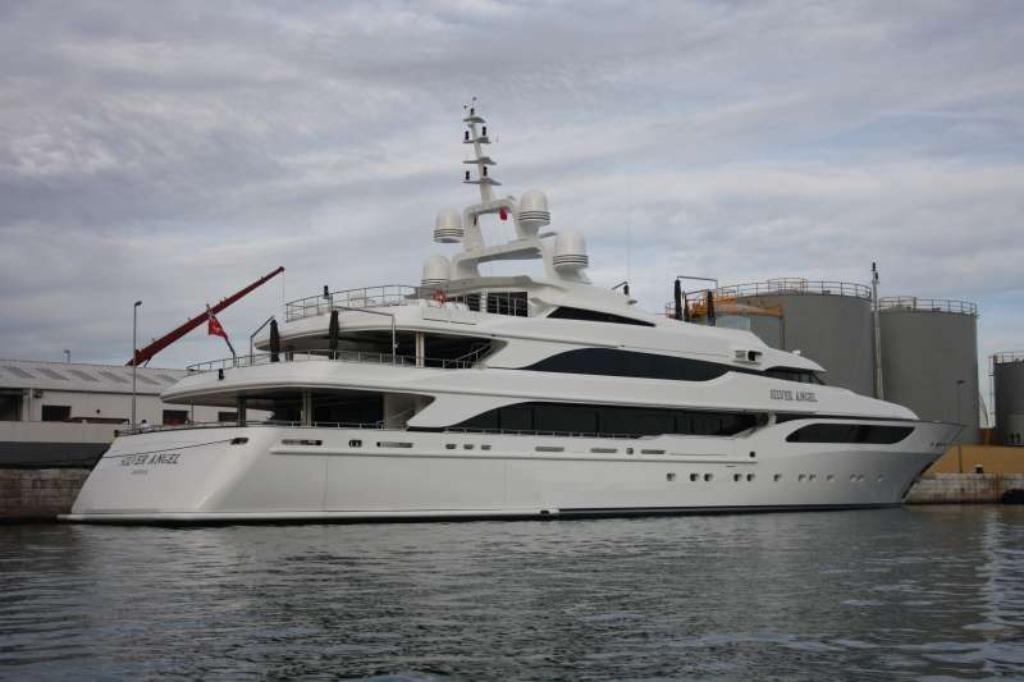PassengerShip: (60, 98, 972, 528)
